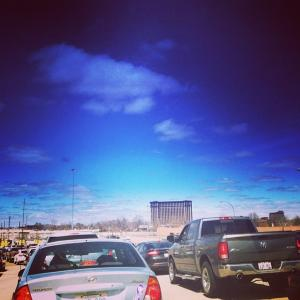Vehicle-registration-plate: (76, 294, 109, 300), (257, 262, 273, 272)
